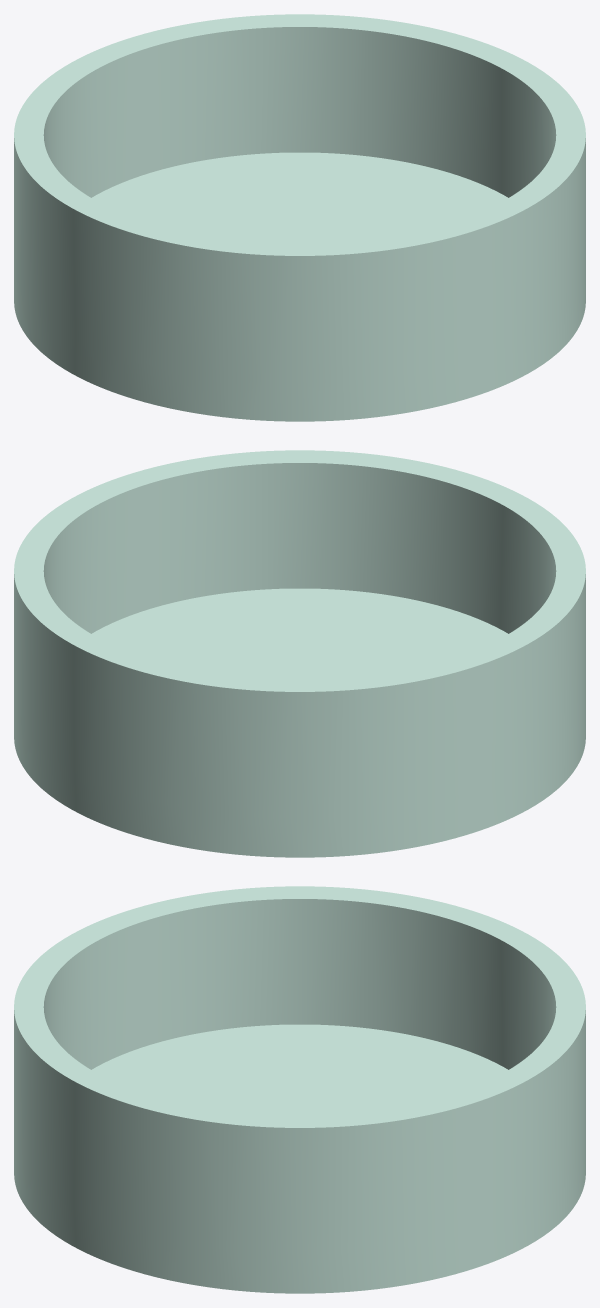
The picture shows the model from 3 angles, top to bottom: view 1: azimuth 30°, elevation 25°; view 2: azimuth 150°, elevation 25°; view 3: azimuth 270°, elevation 25°; orthographic projection.
Parts seen in each view (by area): view 1: Renderer Node; view 2: Renderer Node; view 3: Renderer Node.
Part boxes in pixels (bbox=[...]): Renderer Node: bbox=[14, 14, 585, 421]; Renderer Node: bbox=[14, 450, 585, 857]; Renderer Node: bbox=[14, 886, 585, 1293].
Bounding box in the file's own units: 1.52 × 0.4844 × 1.52.
